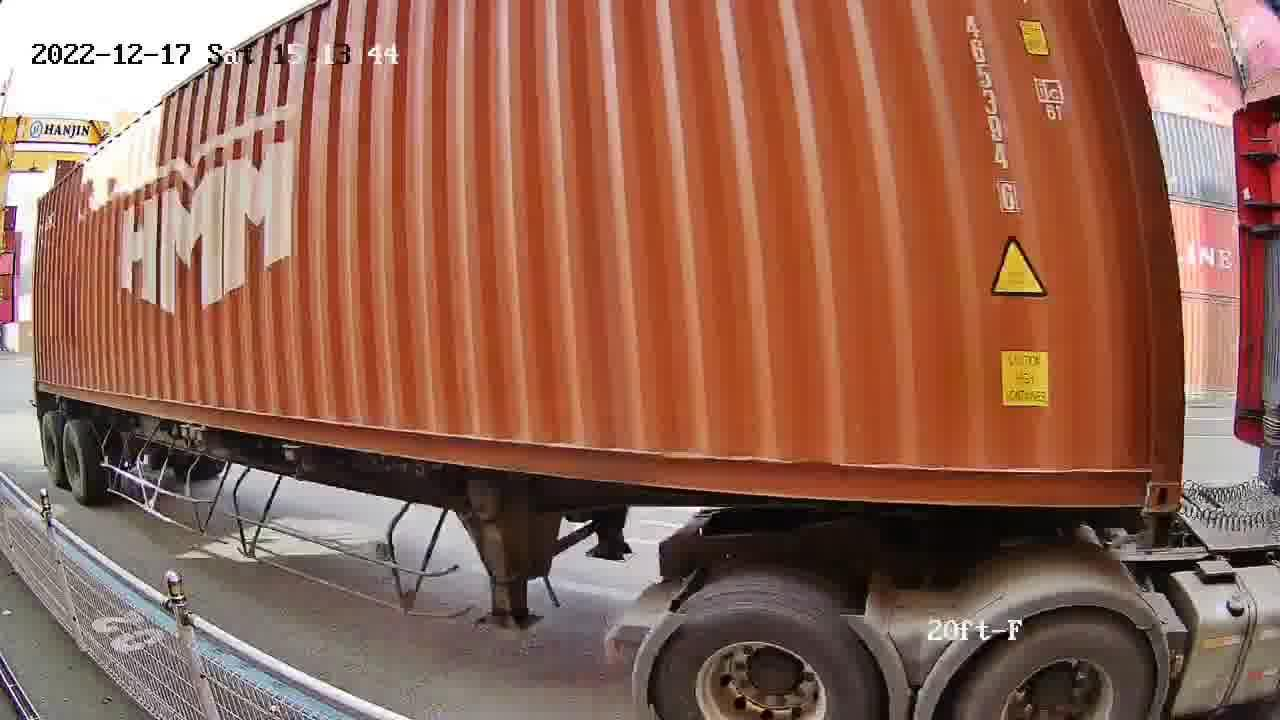Hole_R: (1113, 436, 1184, 510)
Tire: (655, 608, 870, 719), (952, 610, 1151, 717)
